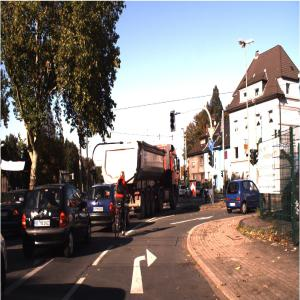give way: (209, 128, 216, 141)
go left: (210, 141, 214, 151)
